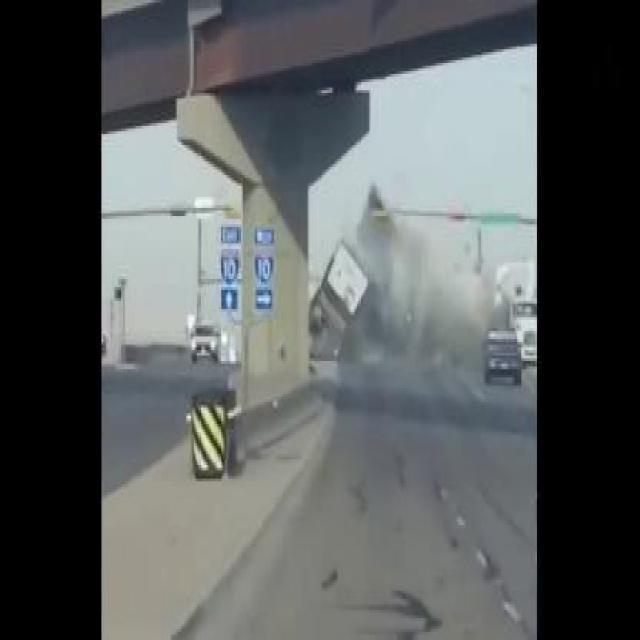accident: (306, 219, 386, 361)
